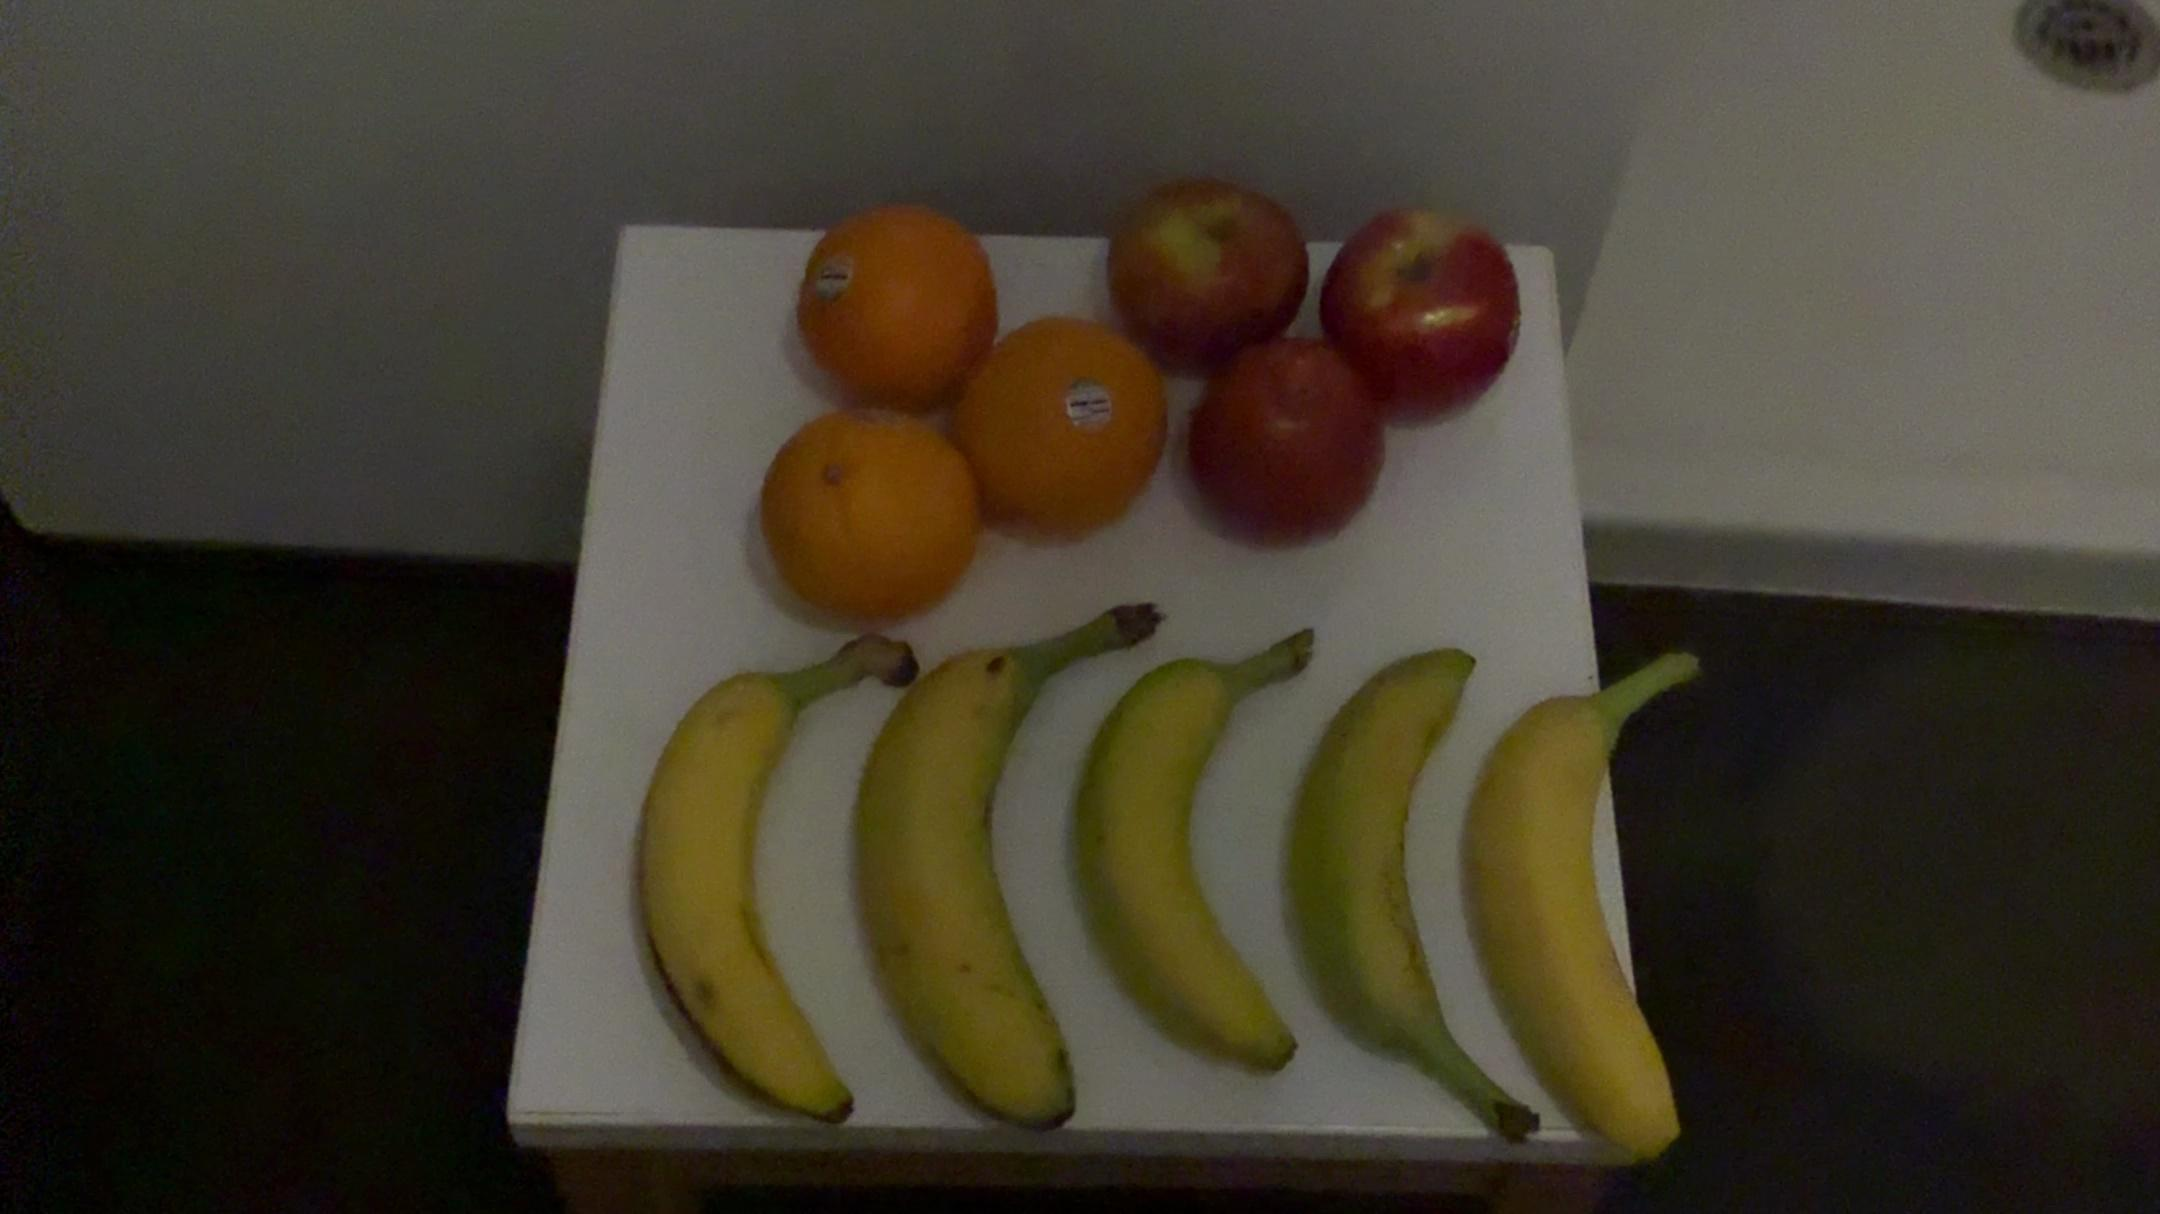apple: (1308, 200, 1532, 419), (1170, 338, 1387, 557), (1101, 171, 1323, 373)
banana: (859, 577, 1153, 1156), (1461, 629, 1731, 1190), (1277, 634, 1561, 1167), (635, 625, 912, 1146), (1050, 614, 1346, 1100)
orange: (951, 307, 1163, 554), (751, 404, 972, 626), (785, 187, 994, 410)
